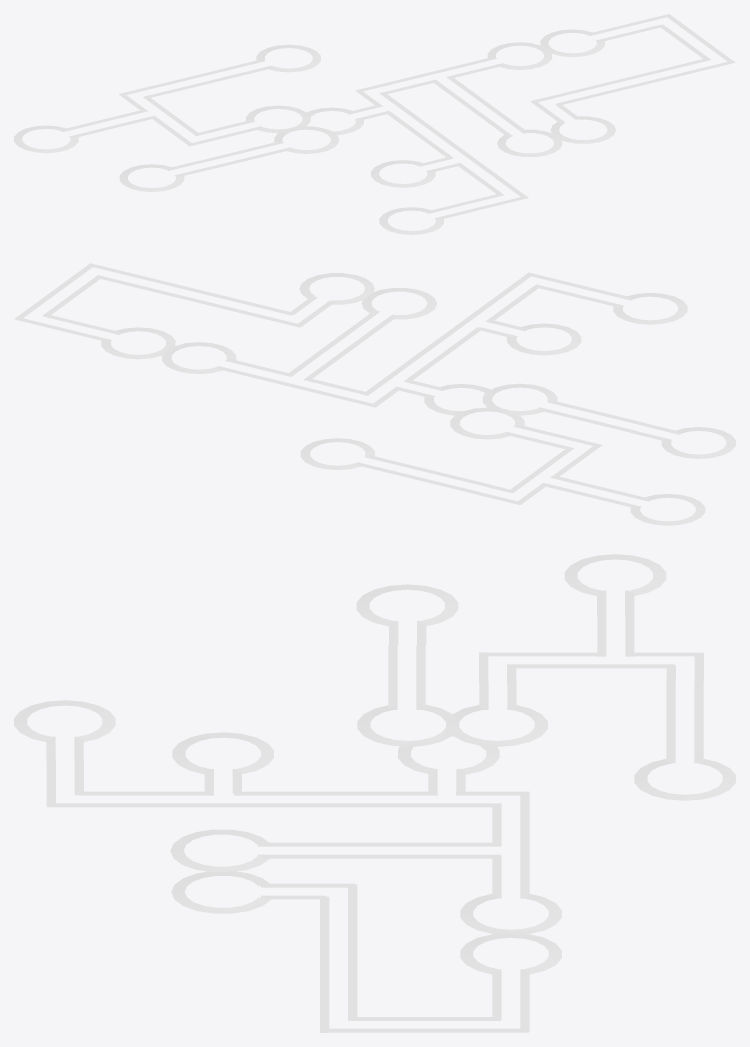
Rendered from wire1.fbx.
The picture shows the model from 3 angles, top to bottom: view 1: azimuth 30°, elevation 25°; view 2: azimuth 150°, elevation 25°; view 3: azimuth 270°, elevation 25°; orthographic projection. The views are drawn at different scales.
Visible parts, largest first — view 1: wire1; view 2: wire1; view 3: wire1.
Boxes of the visible parts, x1=… form: wire1: x1=14, y1=14, x2=735, y2=234; wire1: x1=14, y1=263, x2=735, y2=525; wire1: x1=14, y1=554, x2=735, y2=1032.
Bounding box in the file's own units: 322 × 0.1187 × 205.
